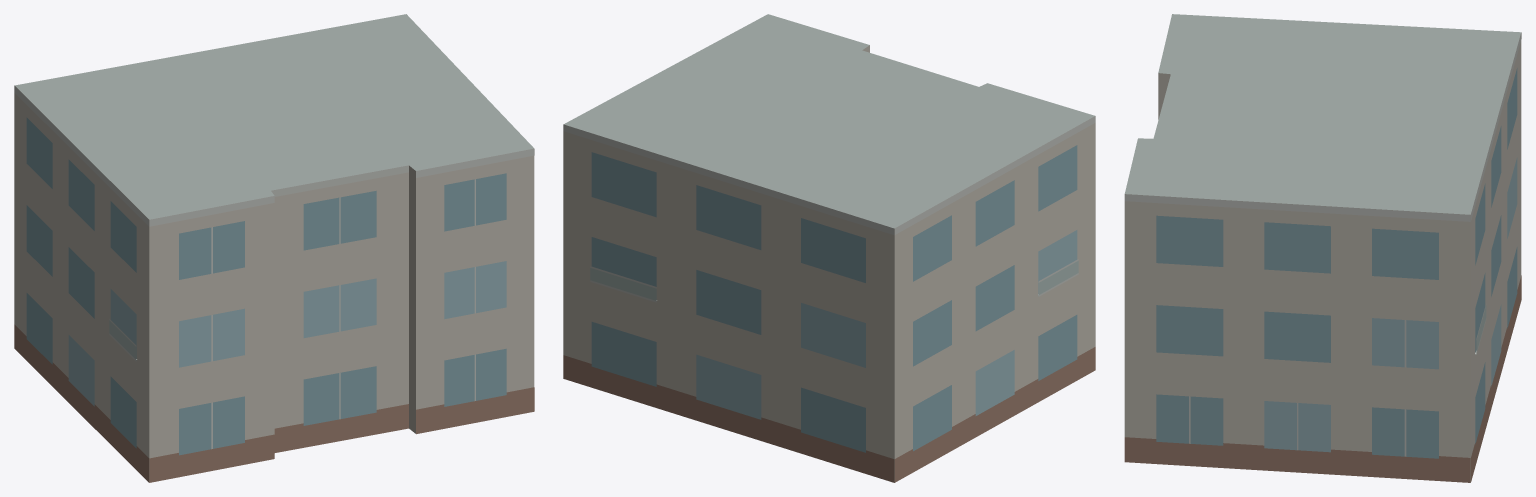
File: survey-upis-32663436.glb
3 views of the same model, side by side, from view 1: azimuth 30°, elevation 25°; view 2: azimuth 150°, elevation 25°; view 3: azimuth 270°, elevation 25° (orthographic). The views are drawn at different scales.
Visible parts, largest first — view 1: survey-upis-32663436.tmp; view 2: survey-upis-32663436.tmp; view 3: survey-upis-32663436.tmp.
Part boxes in pixels (x1,y1,x2,y2): survey-upis-32663436.tmp: (14, 14, 534, 482); survey-upis-32663436.tmp: (563, 14, 1095, 482); survey-upis-32663436.tmp: (1124, 14, 1521, 482).
Bounding box in the file's own units: 14.71 × 9.15 × 12.28.
